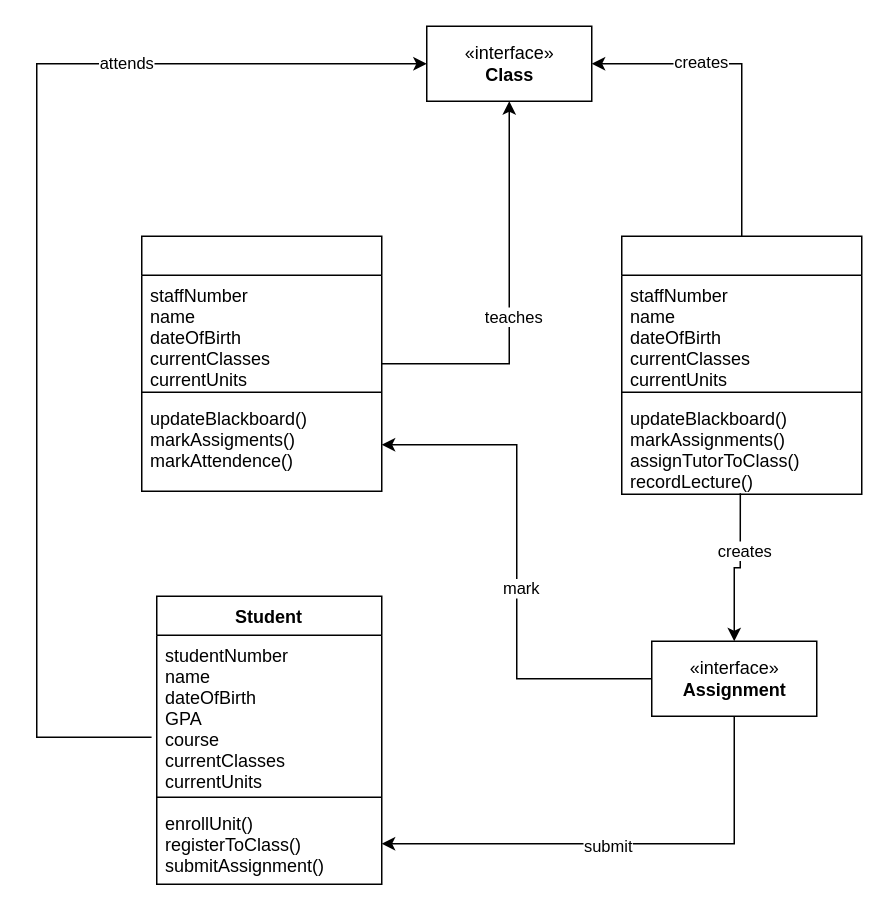
Some shapes in this 888 by 915 pixel diagram are drawn without their labels. Each missing label, with the box of its shape:
Tutor: (140, 235, 382, 491)
University Lecturer: (620, 235, 862, 494)
